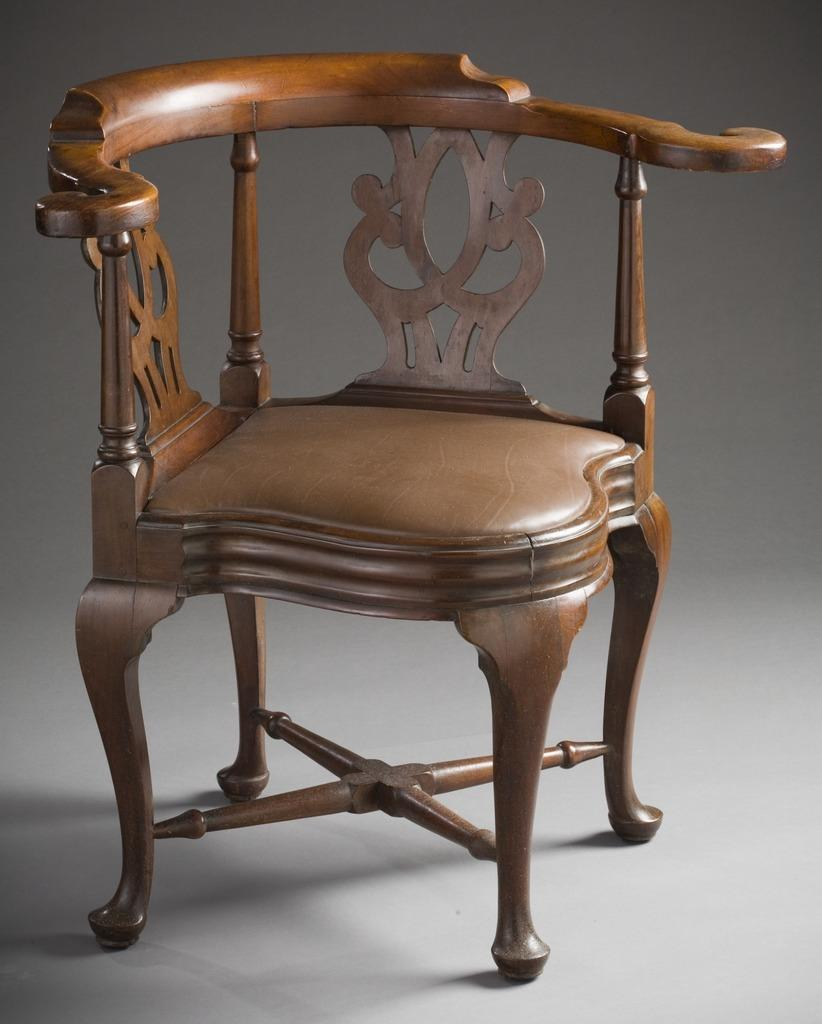Chair: (38, 0, 716, 954)
